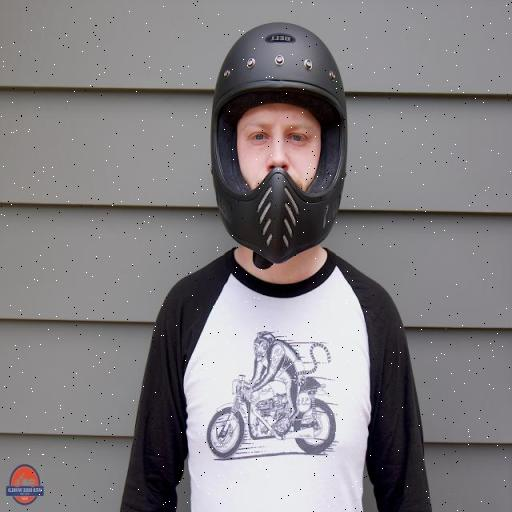Helmet: (211, 23, 347, 267)
